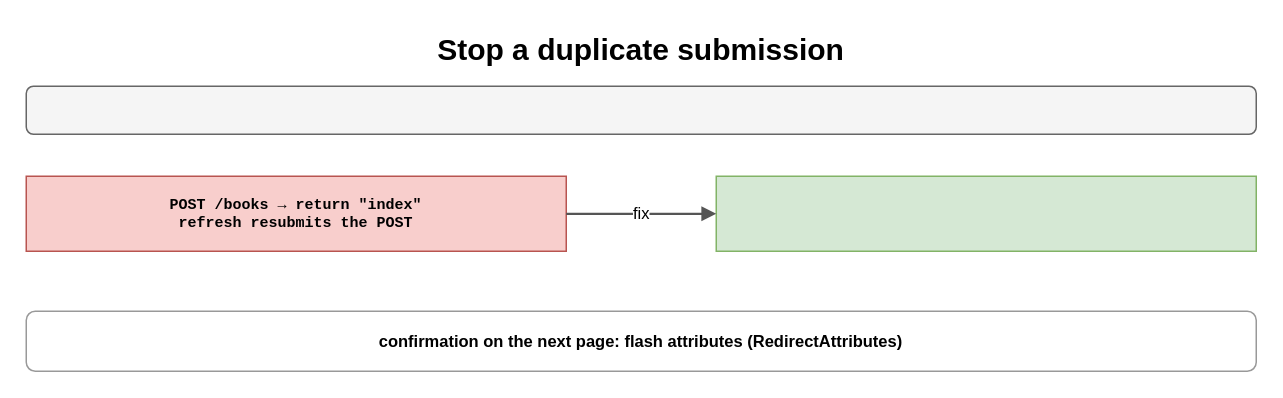
The diagram is 1283 pixels wide and 398 high, and some of its shapes have lost their labels. Each missing label, with the centre of its shape:
POST /books → return "redirect:/" browser then GETs /: (985,213)
Redirect after saving so refresh repeats a GET: (640,109)
